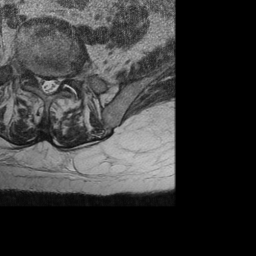CCS_normal: (45, 70, 53, 100)
LFS_stenosis: (60, 67, 67, 88)
LLS_normal: (53, 69, 60, 98)
RFS_severe_stenosis: (29, 64, 37, 88)
RLS_normal: (37, 69, 45, 96)
